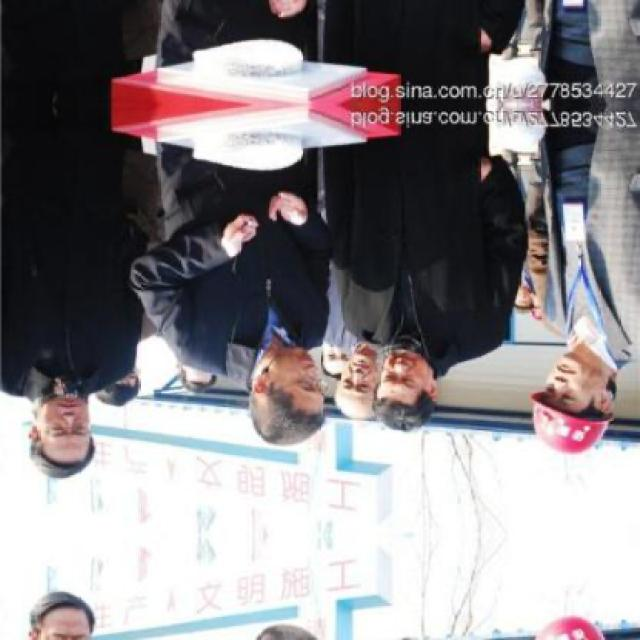con casco: (527, 330, 640, 458)
sin casco: (174, 330, 327, 460), (12, 383, 130, 487), (364, 328, 466, 430), (337, 349, 399, 435)
